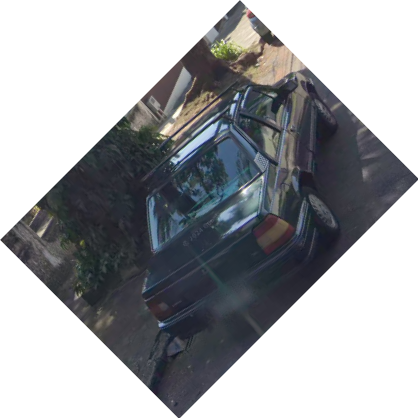car: (145, 71, 341, 339)
